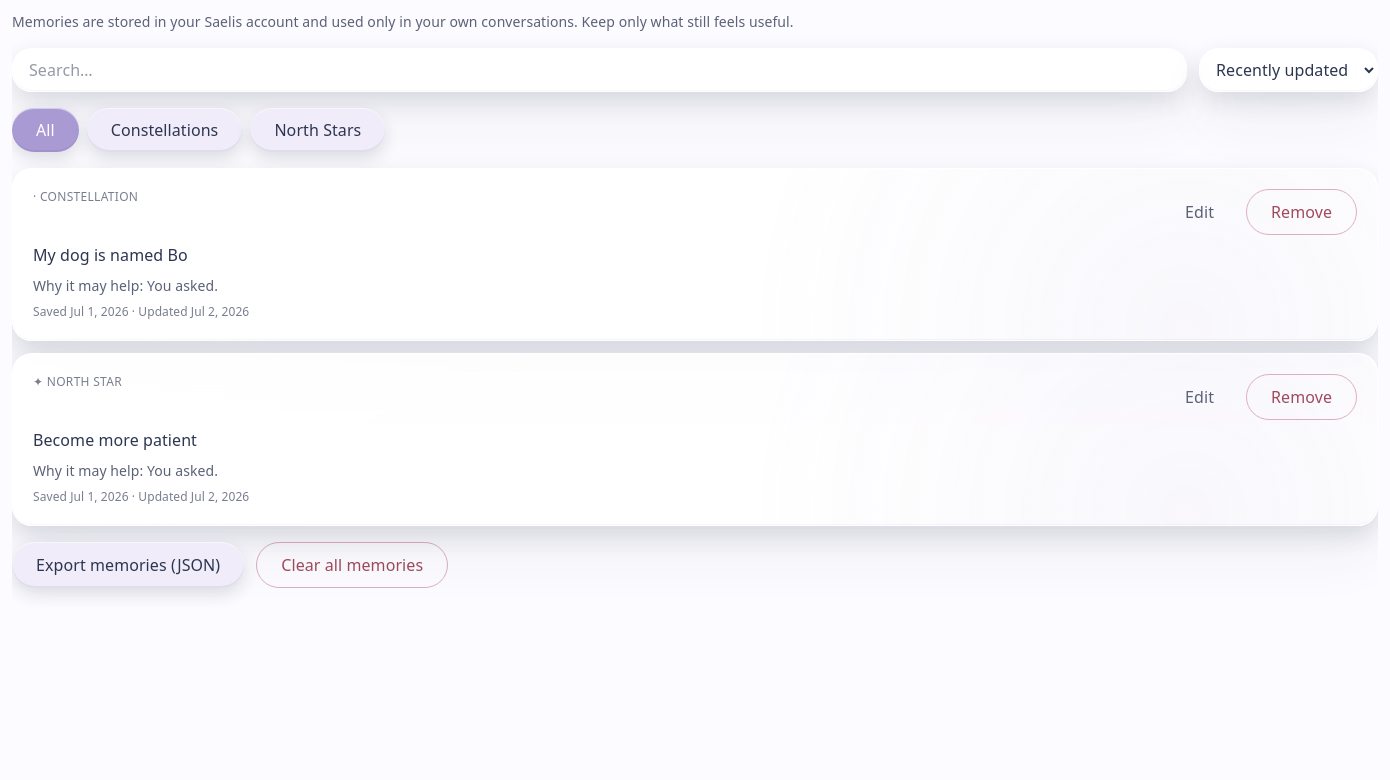
Test: MemoryCenter › searches and filters by kind
Click the button "North Stars" at (318, 130), box [250,108,385,152]
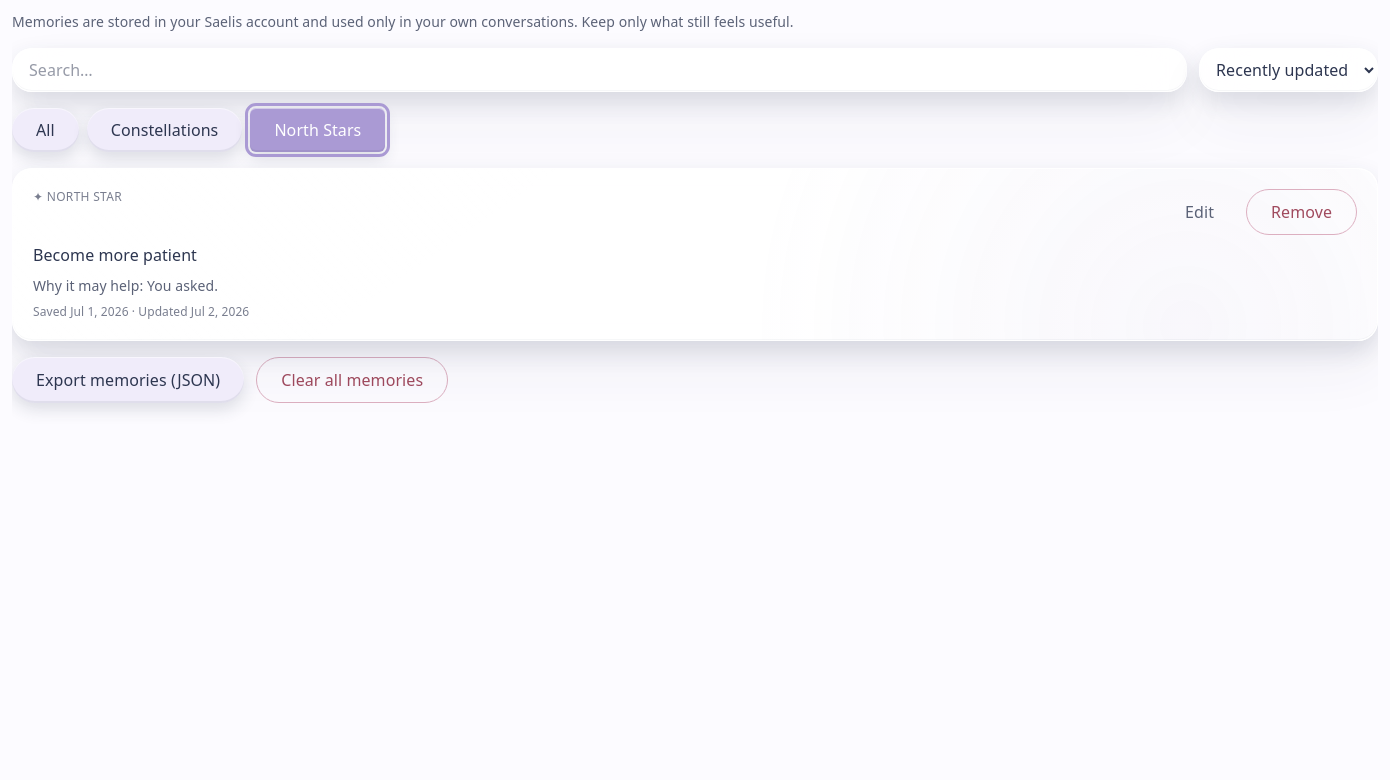
expect the text "Become more patient" is shown: met, box [33,244,197,266]
expect the text "My dog is named Bo" is gone: met
Click the button "All" at (45, 130), box [12,108,79,152]
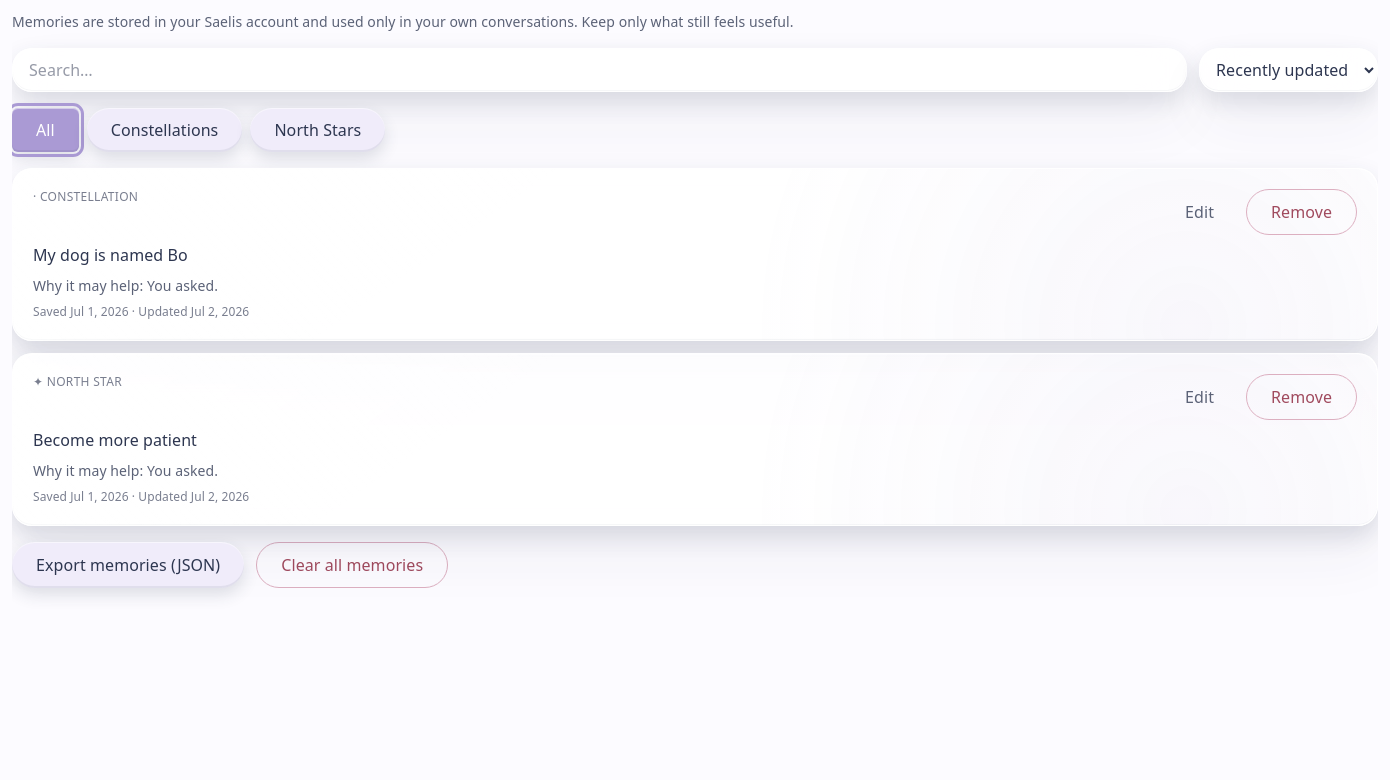
Type "dog" into the search field named "Search memories" at (600, 70), box [12,48,1187,92]
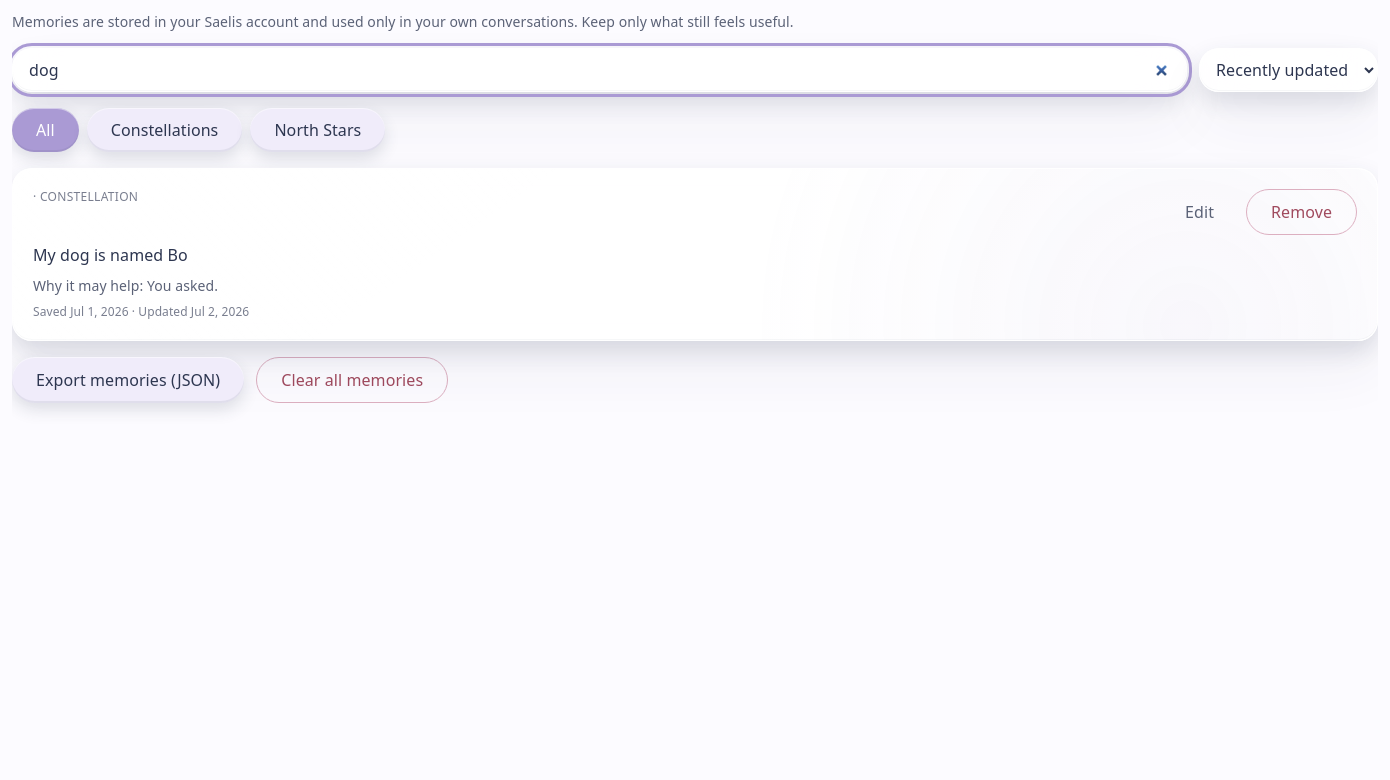
expect the text "My dog is named Bo" is shown: met, box [33,244,188,266]
expect the text "Become more patient" is gone: met
